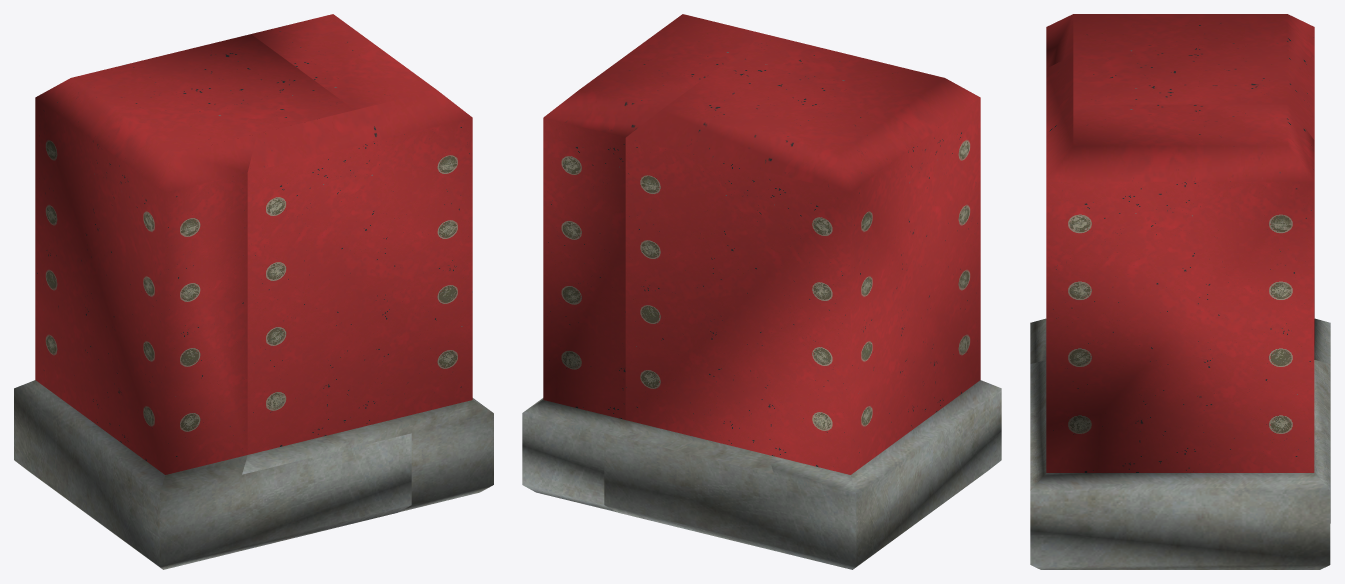
The model's file is Ob_RailingConnectorRec_RC.fbx.
The picture shows the model from 3 angles, left to right: view 1: azimuth 30°, elevation 25°; view 2: azimuth 150°, elevation 25°; view 3: azimuth 270°, elevation 25°; orthographic projection. The views are drawn at different scales.
Visible parts, largest first — view 1: Ob_RailingConnectorRec_RC; view 2: Ob_RailingConnectorRec_RC; view 3: Ob_RailingConnectorRec_RC.
Boxes of the visible parts, x1=… form: Ob_RailingConnectorRec_RC: x1=14, y1=14, x2=493, y2=569; Ob_RailingConnectorRec_RC: x1=522, y1=14, x2=1001, y2=569; Ob_RailingConnectorRec_RC: x1=1030, y1=14, x2=1330, y2=569.
Size of the model in its own units: 202 by 230 by 152.
